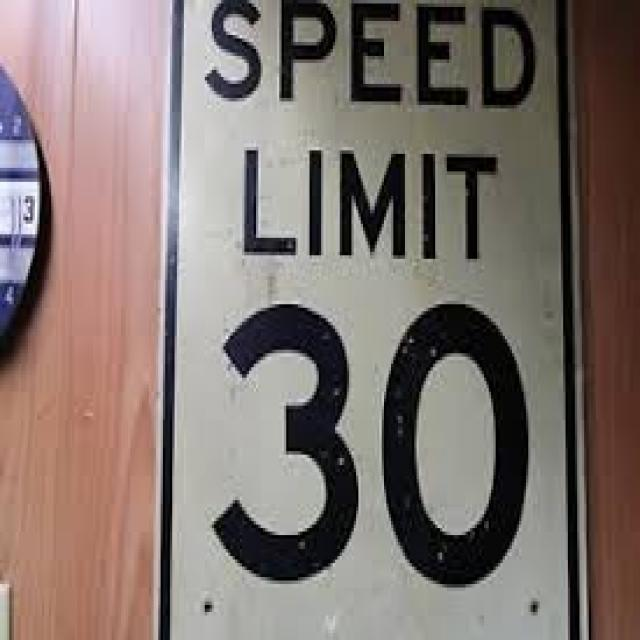speedLimit30: (162, 5, 592, 621)
